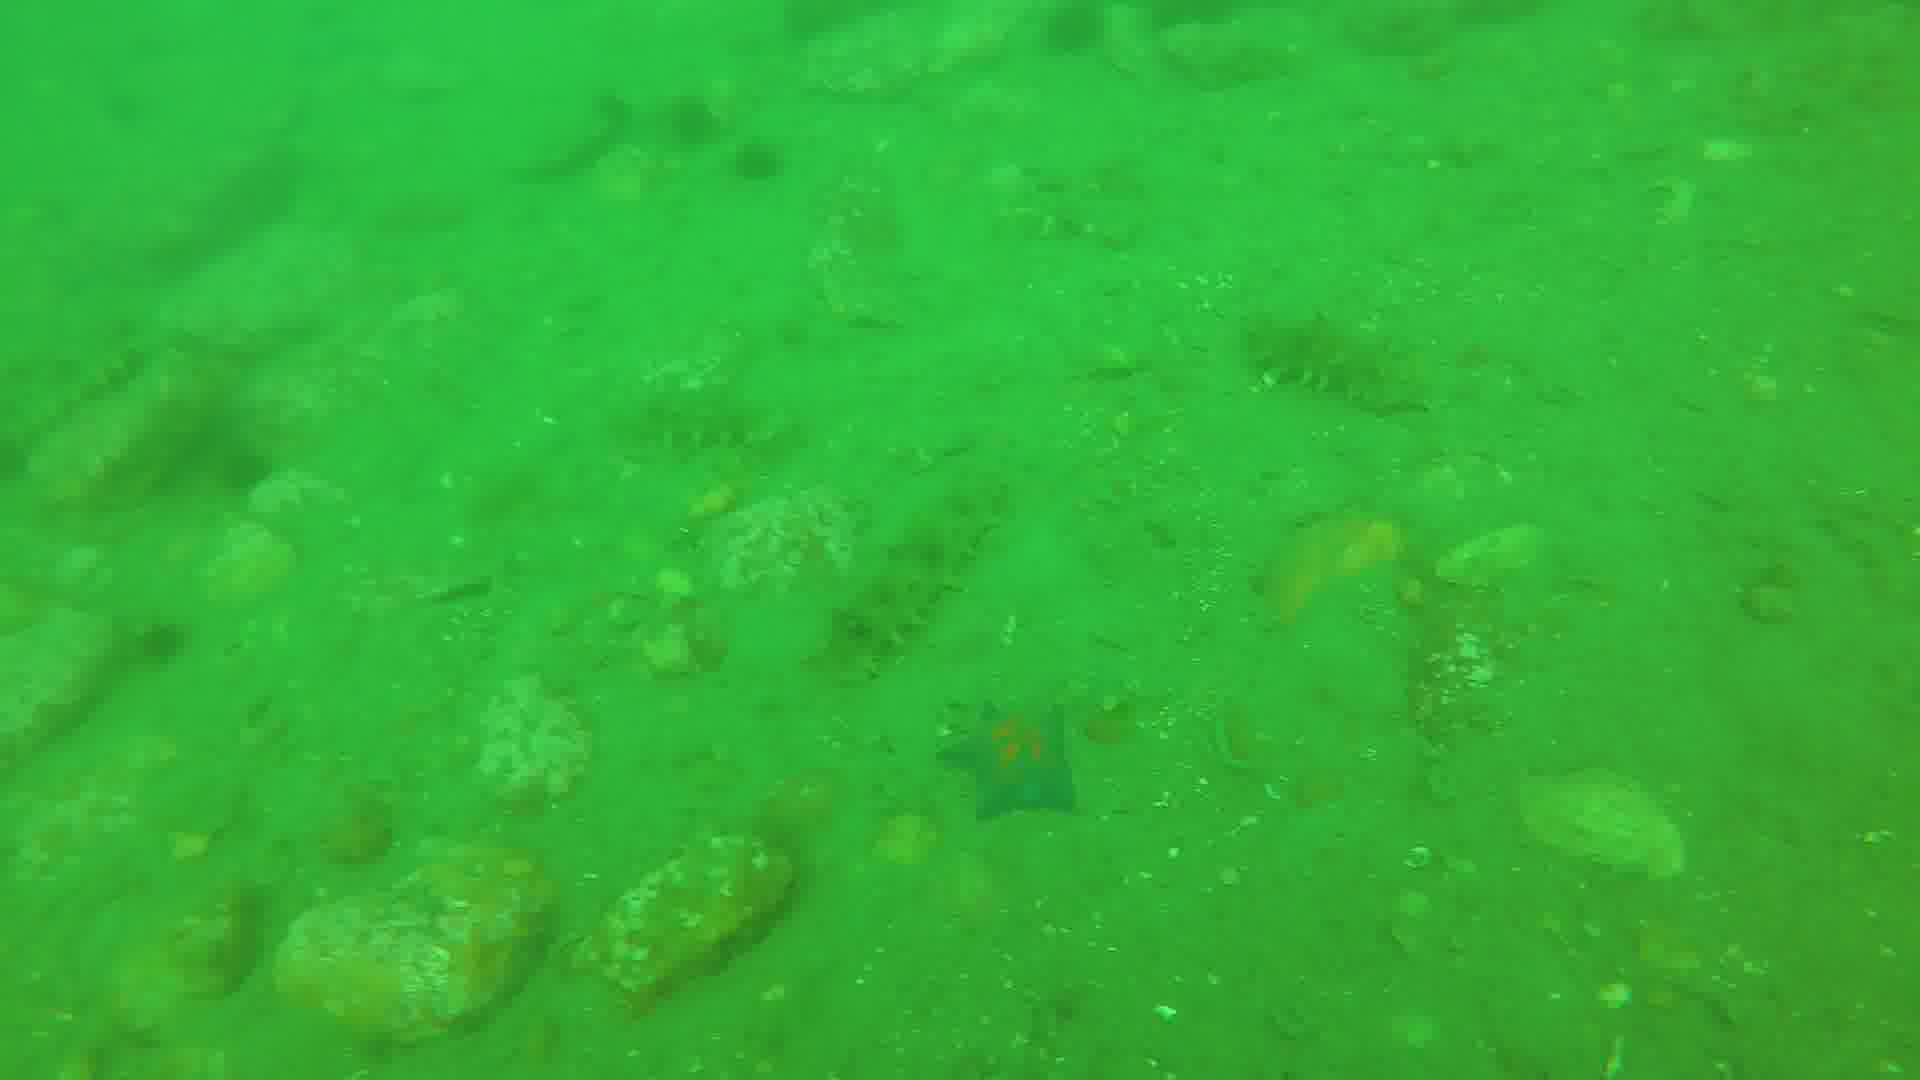echinus: (138, 612, 196, 667), (727, 135, 785, 189), (215, 450, 273, 497)
holothurian: (829, 477, 1015, 688), (1, 351, 148, 473), (1250, 316, 1414, 407), (608, 388, 791, 444)
starfish: (942, 694, 1080, 814)
